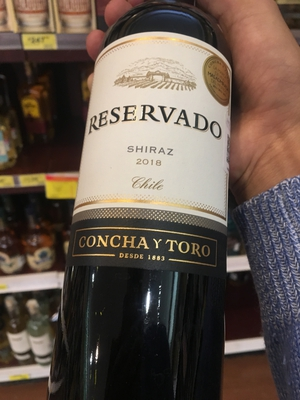reservado shiraz: (57, 19, 246, 377)
